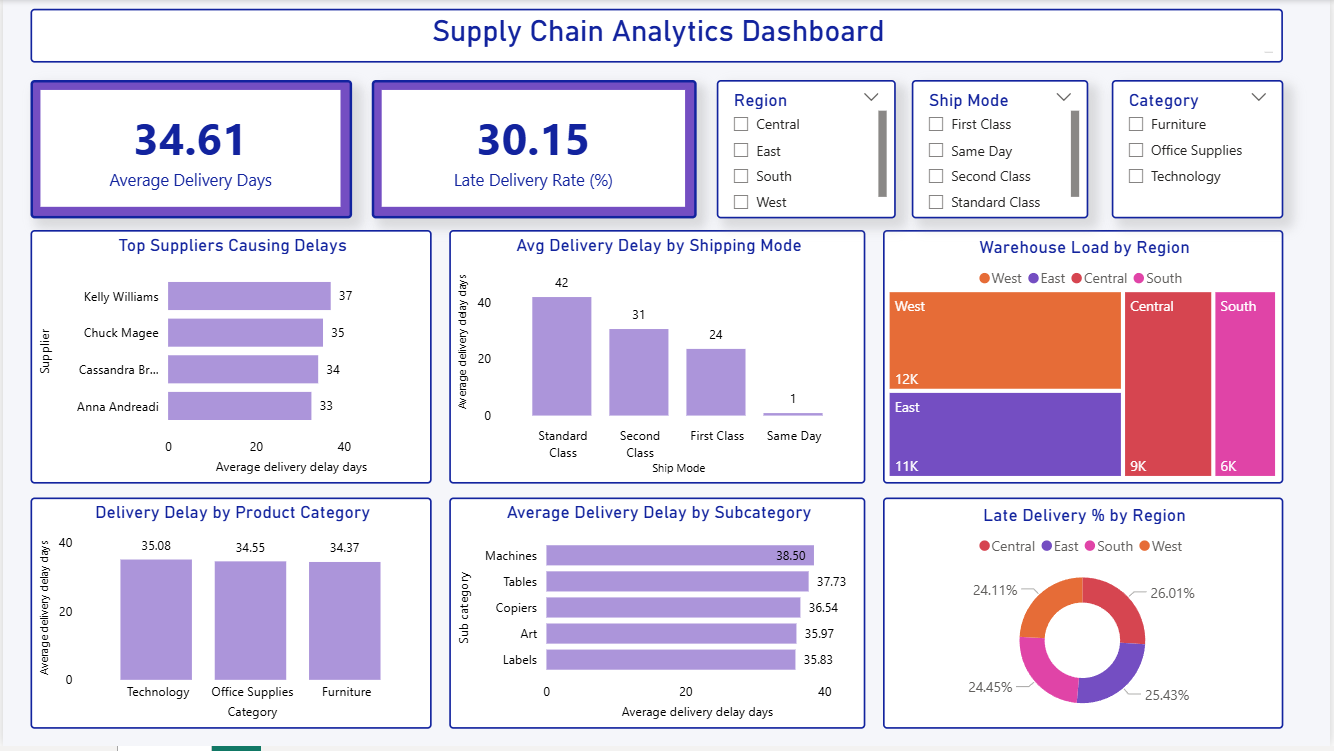

This screenshot's page, from the dashboard's own definition file:
{"tool":"powerbi","page":{"name":"Page 1","canvas":[1280,720],"ordinal":0},"visuals":[{"type":"cardVisual","fields":{"Data":["Avg(supply_chain_project order_cleaned.delivery_delay_days)"]},"box":[26.5,77.2,310.1,133.9],"z":0},{"type":"cardVisual","fields":{"Data":["supply_chain_project order_cleaned.Late Delivery %"]},"box":[355.9,77.2,313.7,133.9],"z":1000},{"type":"clusteredBarChart","title":"Top Suppliers Causing Delays","fields":{"Category":["supply_chain_project supplier_performance.supplier"],"Y":["Avg(supply_chain_project supplier_performance.avg_delivery_delay)"]},"box":[26.5,222,387.3,244.9],"z":2000},{"type":"treemap","title":"Warehouse Load by Region","fields":{"Group":["supply_chain_project warehouse_load.warehouse_region"],"Values":["Sum(supply_chain_project warehouse_load.total_quantity)"]},"box":[849.3,222,386.1,244.9],"z":3000},{"type":"donutChart","title":"Late Delivery % by Region","fields":{"Category":["supply_chain_project order_cleaned.region"],"Y":["supply_chain_project order_cleaned.Late Delivery %"]},"box":[849.3,480.2,386.1,223.2],"z":4000},{"type":"columnChart","title":"Avg Delivery Delay by Shipping Mode","fields":{"Category":["supply_chain_project order_cleaned.ship_mode"],"Y":["Avg(supply_chain_project order_cleaned.delivery_delay_days)"]},"box":[430.7,222,401.7,244.9],"z":5000},{"type":"columnChart","title":"Delivery Delay by Product Category","fields":{"Category":["supply_chain_project order_cleaned.category"],"Y":["Avg(supply_chain_project order_cleaned.delivery_delay_days)"]},"box":[26.5,480.2,387.3,223.2],"z":6000},{"type":"barChart","title":"Average  Delivery Delay by Subcategory","fields":{"Category":["supply_chain_project order_cleaned.sub_category"],"Y":["Avg(supply_chain_project order_cleaned.delivery_delay_days)"]},"box":[430.7,480.2,401.7,223.2],"z":7000},{"type":"slicer","fields":{"Values":["supply_chain_project order_cleaned.region"]},"box":[688.9,77.2,172.5,133.9],"z":8000},{"type":"slicer","fields":{"Values":["supply_chain_project order_cleaned.category"]},"box":[1070.1,77.2,165.3,133.9],"z":9000},{"type":"slicer","fields":{"Values":["supply_chain_project order_cleaned.ship_mode"]},"box":[877.1,77.2,170.1,133.9],"z":10000},{"type":"textbox","title":"Supply Chain Analytics Dashboard","box":[26.5,8.4,1208.9,51.9],"z":11000}]}

Visuals, with their boxes in screenshot pixels (x1, y1, x2, y2), scaled from the page's 1280x720 canvas onto the 1334x751 screenshot:
cardVisual - Avg(supply_chain_project order_cleaned.delivery_delay_days): (28, 81, 351, 220)
cardVisual - supply_chain_project order_cleaned.Late Delivery %: (371, 81, 698, 220)
"Top Suppliers Causing Delays" clusteredBarChart: (28, 232, 431, 487)
"Warehouse Load by Region" treemap: (885, 232, 1288, 487)
"Late Delivery % by Region" donutChart: (885, 501, 1288, 734)
"Avg Delivery Delay by Shipping Mode" columnChart: (449, 232, 868, 487)
"Delivery Delay by Product Category" columnChart: (28, 501, 431, 734)
"Average  Delivery Delay by Subcategory" barChart: (449, 501, 868, 734)
slicer - supply_chain_project order_cleaned.region: (718, 81, 898, 220)
slicer - supply_chain_project order_cleaned.category: (1115, 81, 1288, 220)
slicer - supply_chain_project order_cleaned.ship_mode: (914, 81, 1091, 220)
"Supply Chain Analytics Dashboard" textbox: (28, 9, 1288, 63)
